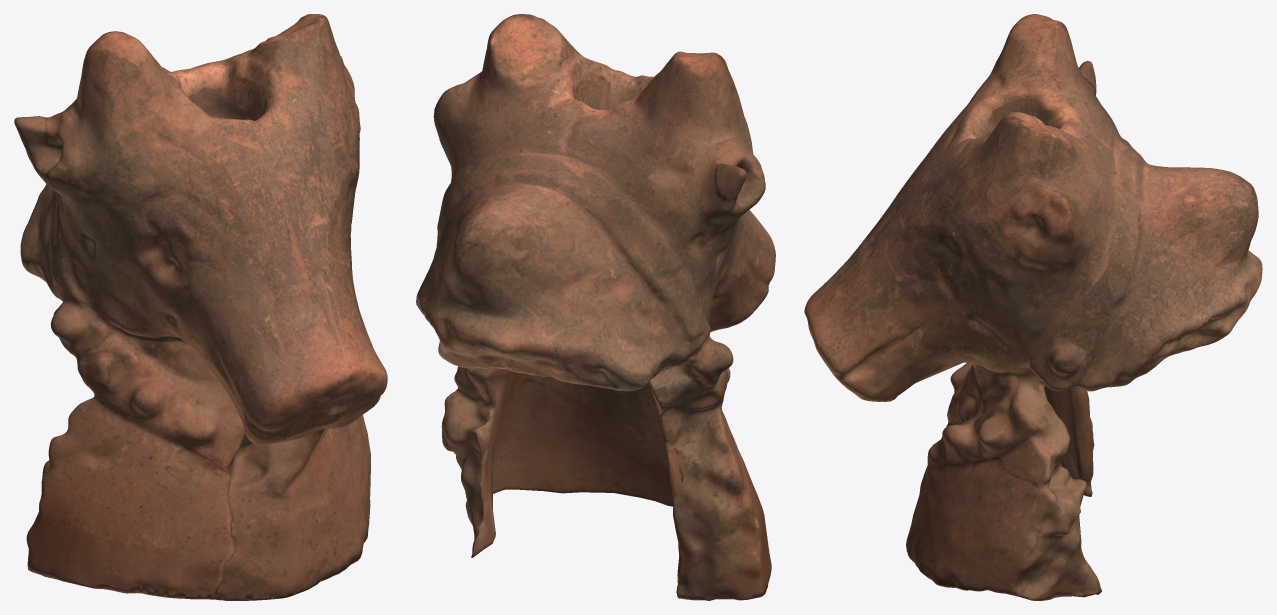
File: MysonMuseum_Bothannandin2_final.glb
3 views of the same model, side by side, from view 1: azimuth 30°, elevation 25°; view 2: azimuth 150°, elevation 25°; view 3: azimuth 270°, elevation 25° (orthographic). The views are drawn at different scales.
Bounding box in the file's own units: 0.2609 × 0.4079 × 0.3467.
Materials: 1 (1 with a texture image).
